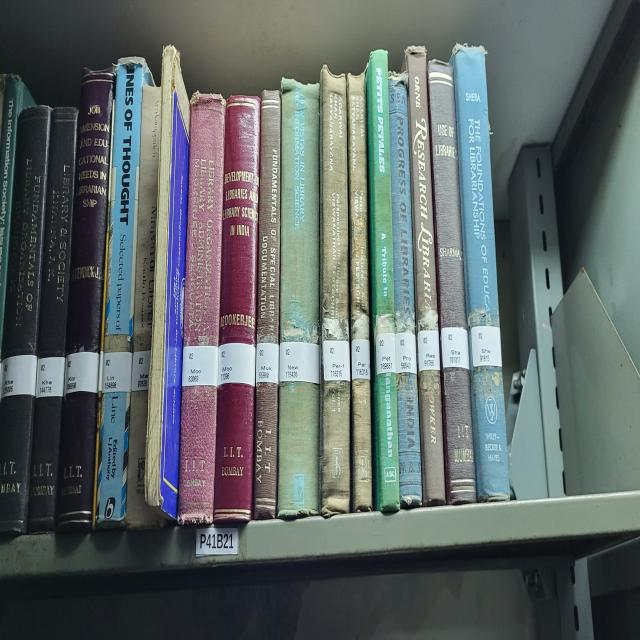Book: (96, 57, 154, 528), (451, 46, 510, 501), (58, 68, 115, 530), (0, 106, 51, 536), (428, 60, 476, 503), (29, 108, 78, 533), (178, 92, 225, 525), (214, 95, 261, 522), (402, 46, 445, 506), (278, 78, 320, 517), (126, 84, 165, 530), (365, 51, 400, 511), (389, 73, 421, 506), (320, 65, 350, 517), (346, 73, 372, 511), (254, 89, 280, 519)
Label: (279, 341, 319, 384), (0, 354, 38, 398), (218, 344, 255, 387), (182, 346, 219, 387), (64, 352, 99, 395), (471, 325, 502, 368), (101, 352, 132, 392), (441, 327, 469, 371), (36, 357, 65, 398), (322, 341, 350, 381), (256, 344, 279, 384), (395, 333, 418, 373), (418, 330, 440, 371), (131, 349, 151, 392), (376, 333, 396, 373), (351, 338, 370, 379)
